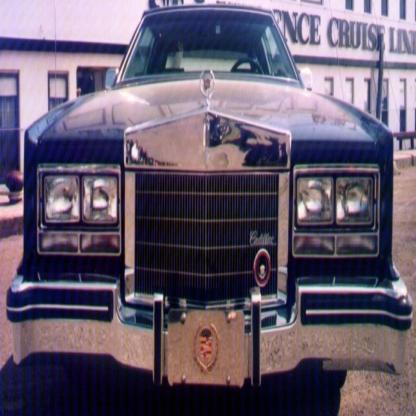Car: (10, 15, 411, 389)
